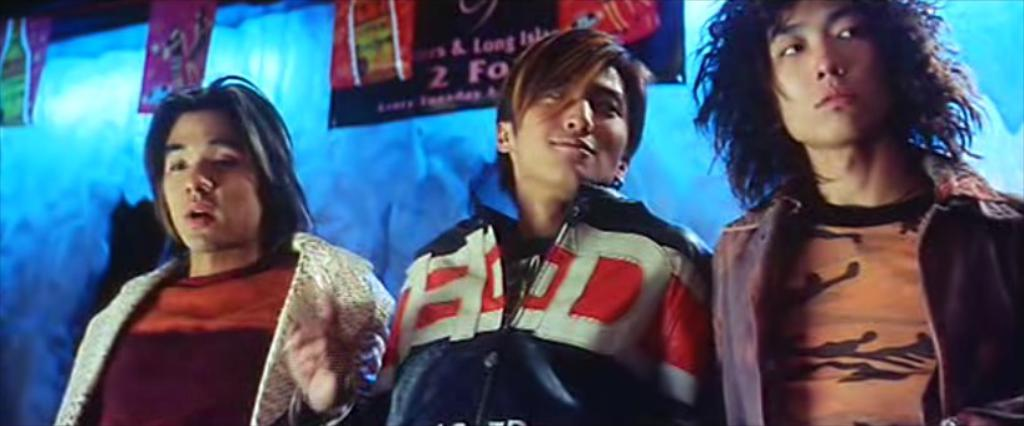face: (743, 1, 941, 172), (492, 23, 650, 227), (141, 81, 307, 266)
